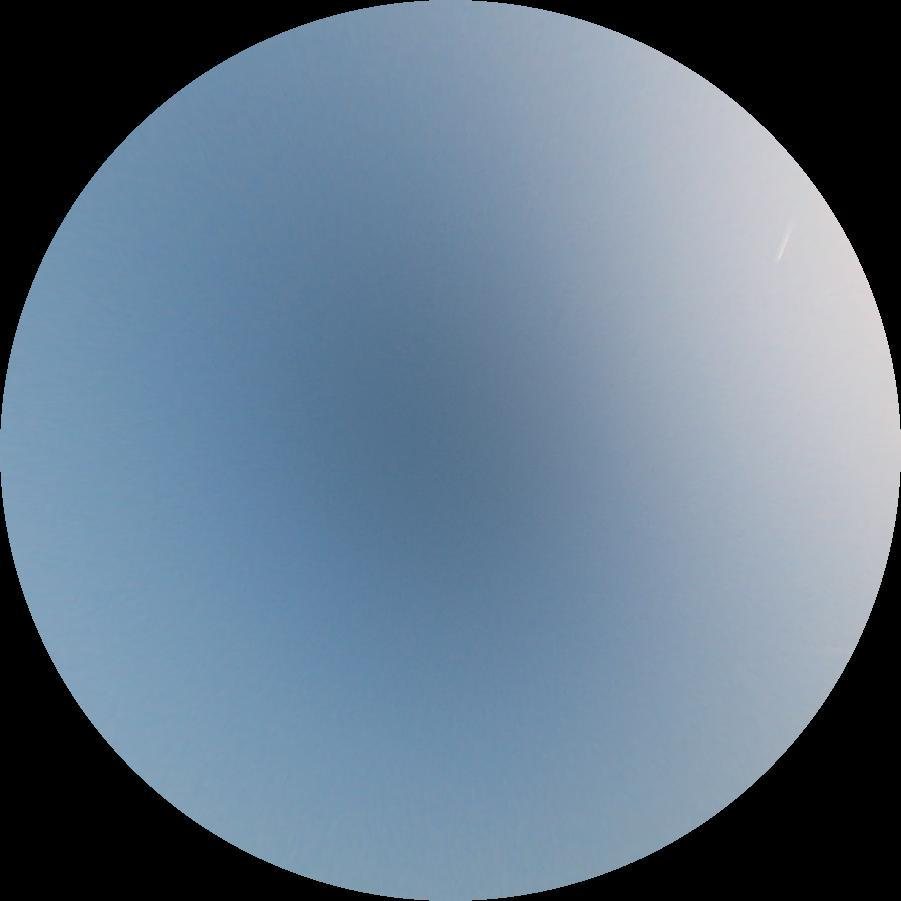contrail young: (773, 216, 797, 263)
